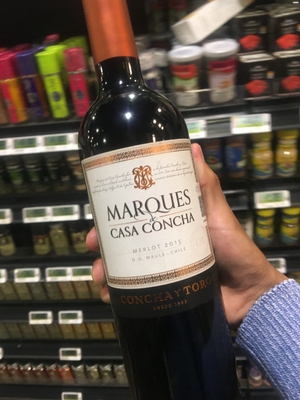marques de casa concha merlot: (70, 4, 243, 380)
